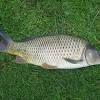Grass Carp: (0, 31, 100, 70)
